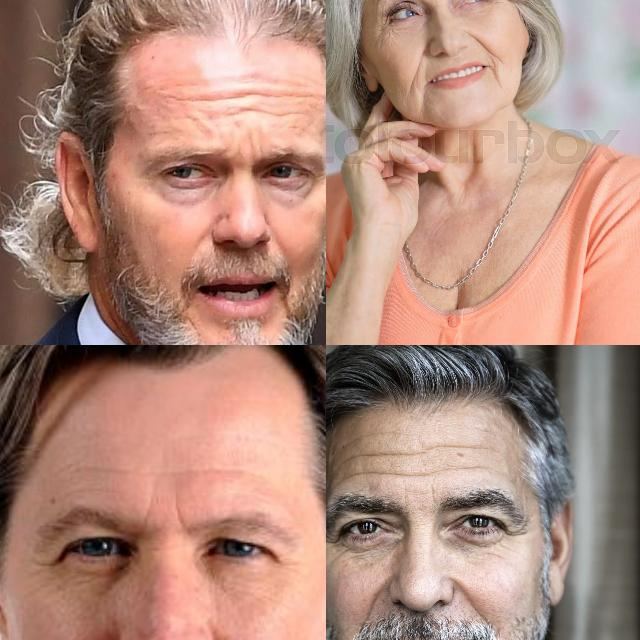crows_feet: (376, 13, 394, 45), (30, 554, 58, 574), (506, 524, 530, 544), (326, 529, 343, 554)
forehead: (348, 438, 420, 480), (435, 438, 513, 476), (67, 457, 153, 483), (170, 464, 270, 484), (230, 81, 262, 113), (179, 86, 225, 108), (270, 85, 314, 103), (268, 105, 300, 121)
frown_line: (136, 499, 184, 527), (428, 485, 440, 503)
gummy_smile: (446, 572, 482, 616), (408, 43, 434, 87), (364, 574, 390, 618), (470, 31, 500, 59)
sad_smile: (410, 79, 438, 119), (486, 59, 508, 91)
